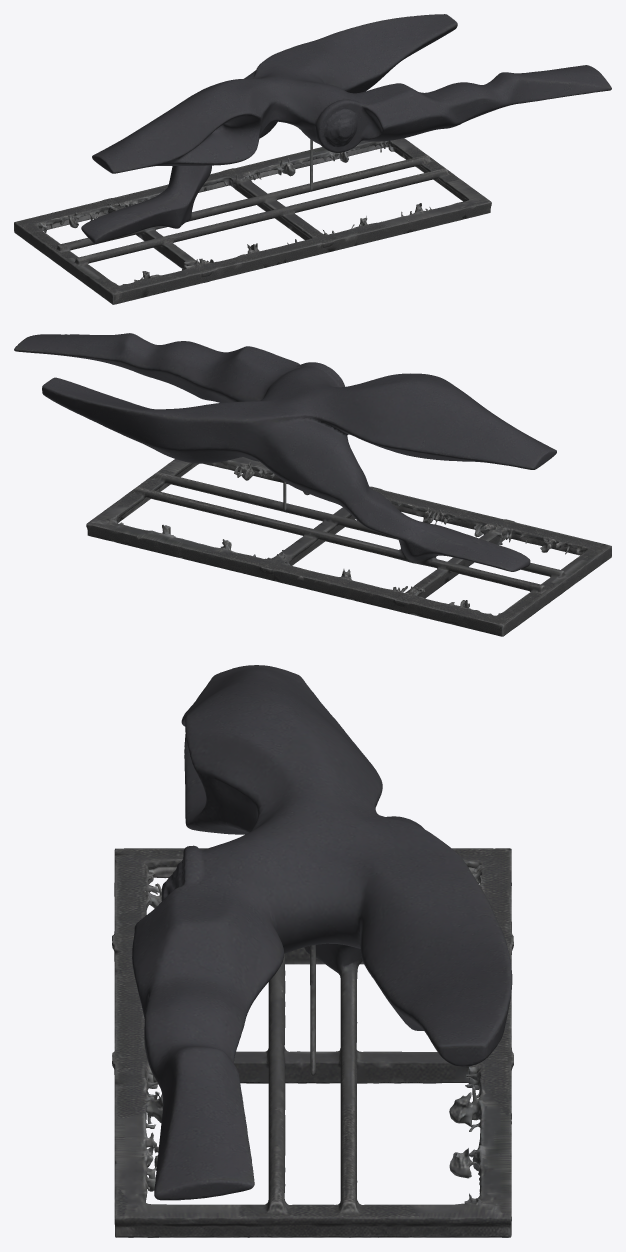
Rendered from skulptura.glb.
3 views of the same model, one above another, from view 1: azimuth 30°, elevation 25°; view 2: azimuth 150°, elevation 25°; view 3: azimuth 270°, elevation 25° (orthographic). The views are drawn at different scales.
Size of the model in its own units: 1.9 by 0.5455 by 0.6489.
Materials: 1 (1 with a texture image).
